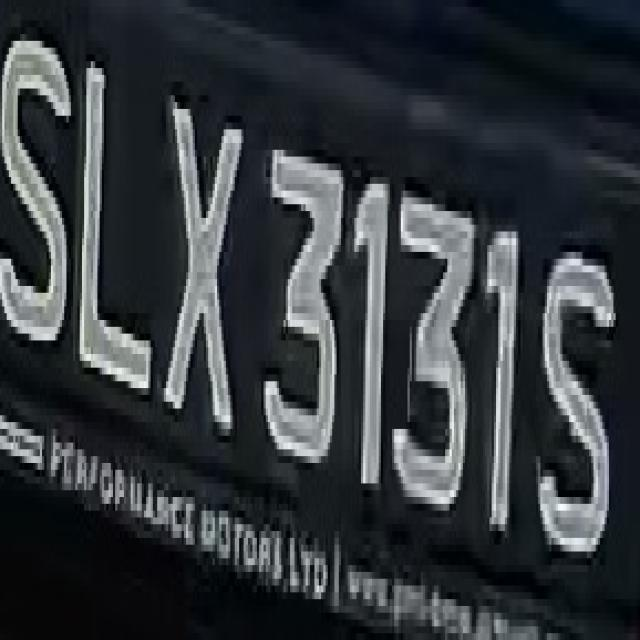1: (341, 156, 394, 544), (481, 204, 527, 545)
3: (396, 150, 478, 531), (264, 122, 346, 470)
L: (64, 48, 153, 429)
S: (542, 205, 618, 592), (6, 34, 68, 381)
X: (158, 68, 242, 463)
